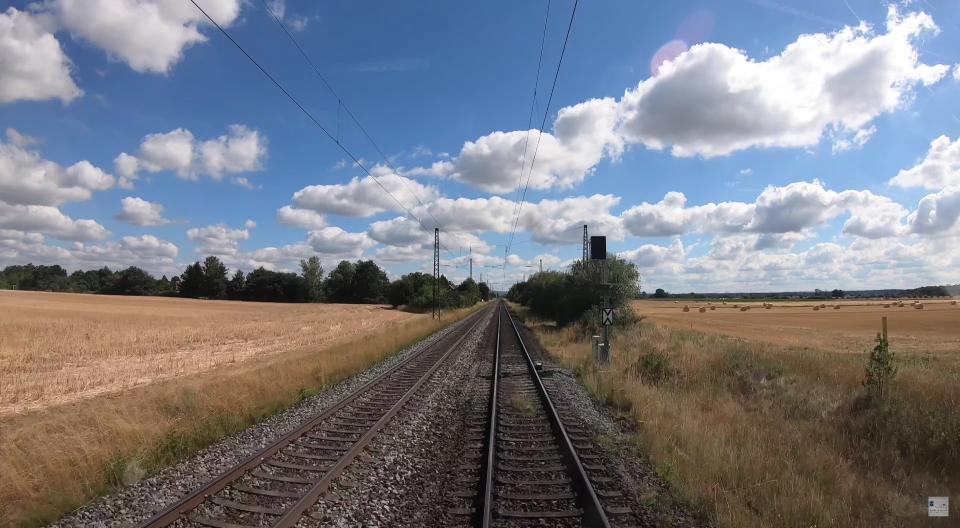Plant: (595, 433, 755, 528), (510, 396, 538, 416)
